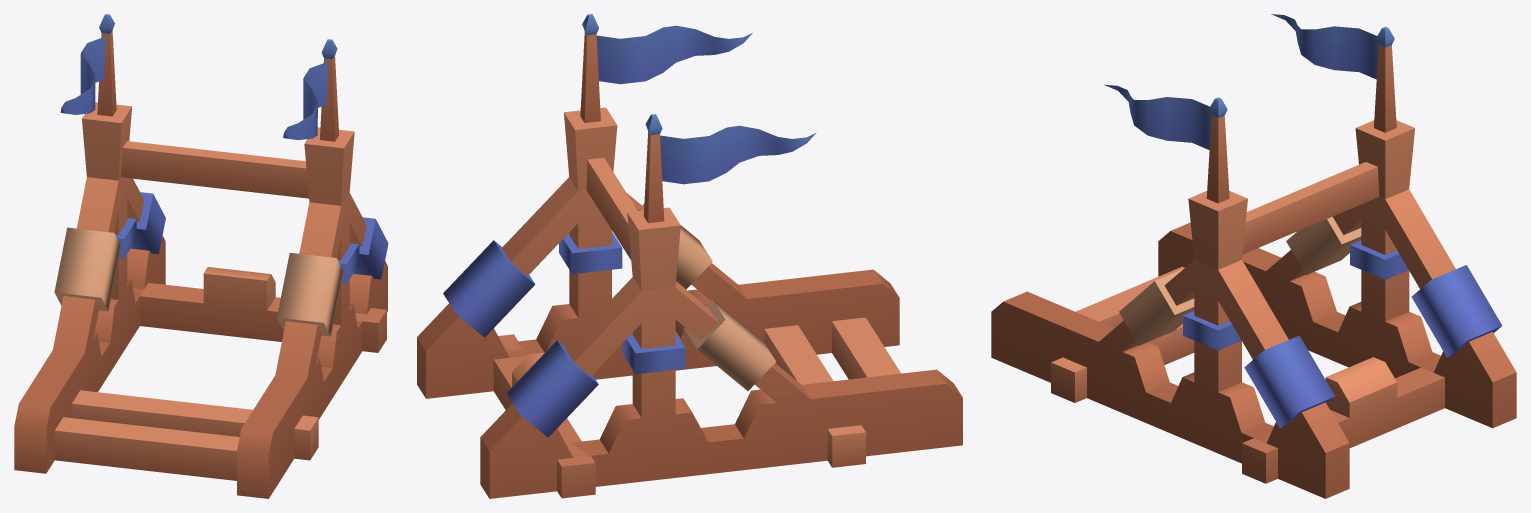
The model's file is siege_catapult__4_3_lev2.glb.
The picture shows the model from 3 angles, left to right: view 1: azimuth 30°, elevation 25°; view 2: azimuth 150°, elevation 25°; view 3: azimuth 270°, elevation 25°; orthographic projection. The views are drawn at different scales.
Parts seen in each view (by area): view 1: siege_catapult__4_3_lev2; view 2: siege_catapult__4_3_lev2; view 3: siege_catapult__4_3_lev2.
Part boxes in pixels (bbox=[...]): siege_catapult__4_3_lev2: bbox=[14, 14, 388, 498]; siege_catapult__4_3_lev2: bbox=[417, 14, 962, 498]; siege_catapult__4_3_lev2: bbox=[991, 14, 1516, 498].
Size of the model in its own units: 1.63 by 1.18 by 1.63.
Materials: 1 (1 with a texture image).
